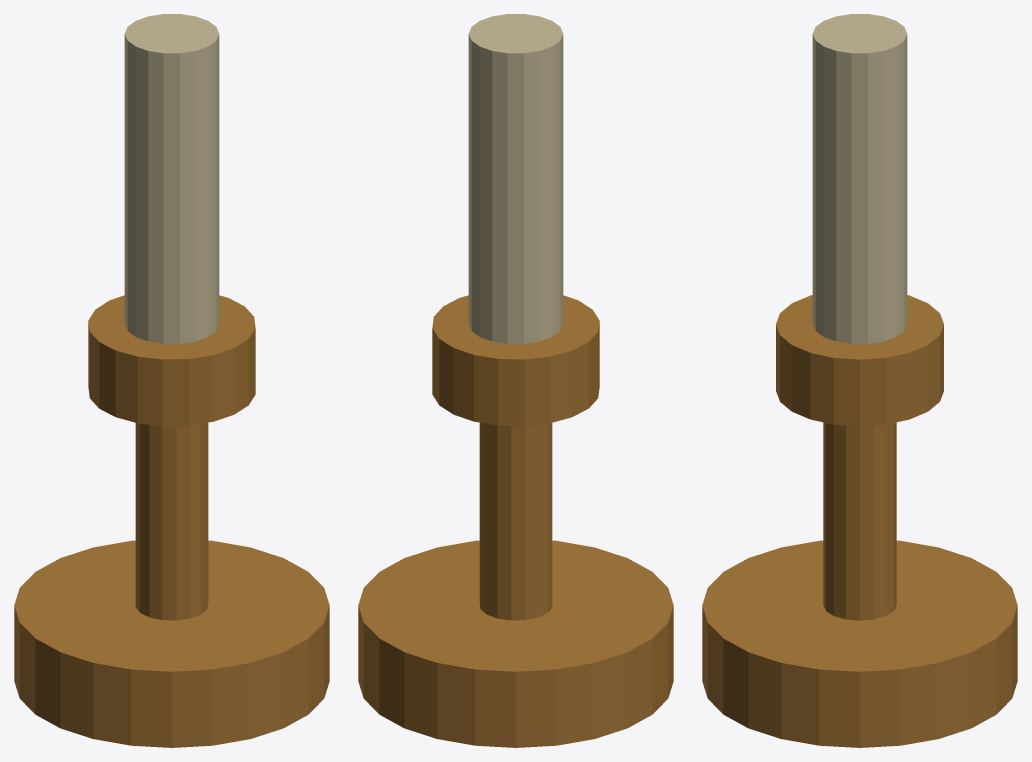
File: brass-candlestick.glb
The picture shows the model from 3 angles, left to right: view 1: azimuth 30°, elevation 25°; view 2: azimuth 150°, elevation 25°; view 3: azimuth 270°, elevation 25°; orthographic projection.
Visible parts, largest first — view 1: CandlestickFoot, Candle, CandlestickCup, CandlestickStem; view 2: CandlestickFoot, Candle, CandlestickCup, CandlestickStem; view 3: CandlestickFoot, Candle, CandlestickCup, CandlestickStem.
Boxes of the visible parts, bbox=[...] form: CandlestickFoot: bbox=[14, 540, 329, 747]; Candle: bbox=[124, 14, 219, 343]; CandlestickCup: bbox=[88, 295, 255, 426]; CandlestickStem: bbox=[135, 422, 208, 620]; CandlestickFoot: bbox=[358, 540, 673, 747]; Candle: bbox=[468, 14, 563, 343]; CandlestickCup: bbox=[432, 295, 599, 426]; CandlestickStem: bbox=[479, 422, 552, 620]; CandlestickFoot: bbox=[702, 540, 1017, 747]; Candle: bbox=[812, 14, 907, 343]; CandlestickCup: bbox=[776, 295, 943, 426]; CandlestickStem: bbox=[823, 422, 896, 620].
Bounding box in the file's own units: 0.3 × 0.68 × 0.3.
